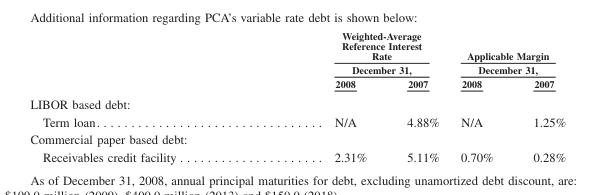table: (29, 29, 565, 163)
table column: (29, 29, 254, 163), (254, 29, 386, 163), (386, 29, 449, 163), (449, 29, 512, 163), (512, 29, 565, 163)
table column header: (29, 29, 565, 92)
table projected row header: (29, 92, 565, 112), (29, 130, 565, 148)
table row: (29, 29, 565, 76), (29, 92, 565, 112), (29, 112, 565, 130), (29, 130, 565, 148), (29, 76, 565, 92), (29, 148, 565, 163)
table spanning cell: (254, 29, 449, 76), (449, 29, 565, 76)
